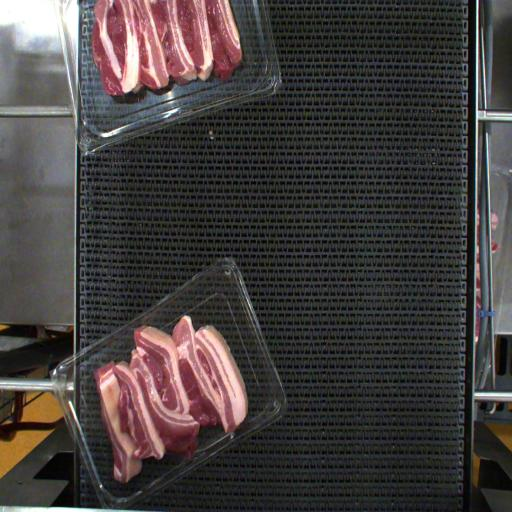twisted-meat: (98, 380, 139, 482)
